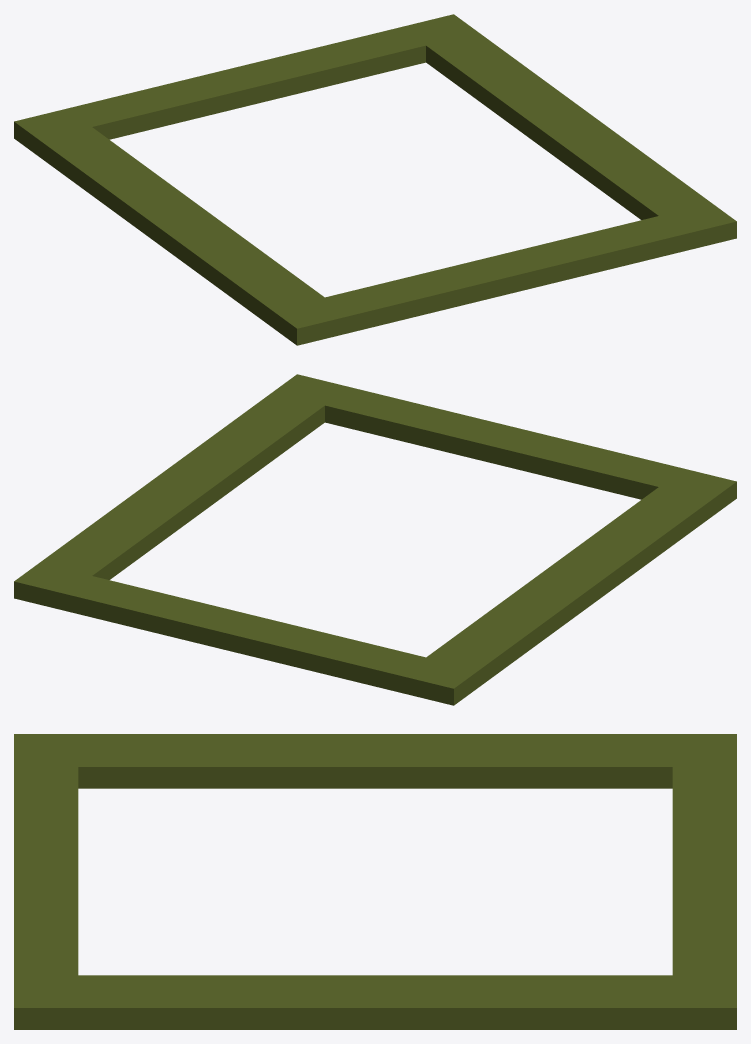
Rendered from keep-wd02_92.obj.
3 renders of one model, top to bottom at view 1: azimuth 30°, elevation 25°; view 2: azimuth 150°, elevation 25°; view 3: azimuth 270°, elevation 25°, orthographic. The views are drawn at different scales.
Size of the model in its own units: 0.8125 by 0.03 by 0.906.
1 material, 1 textured.
